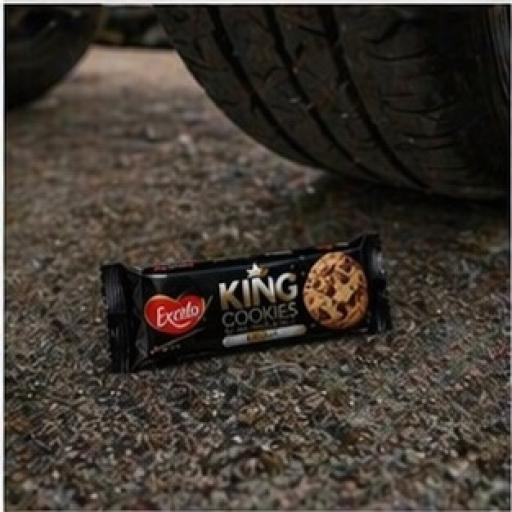king_cooking: (74, 192, 465, 412)
